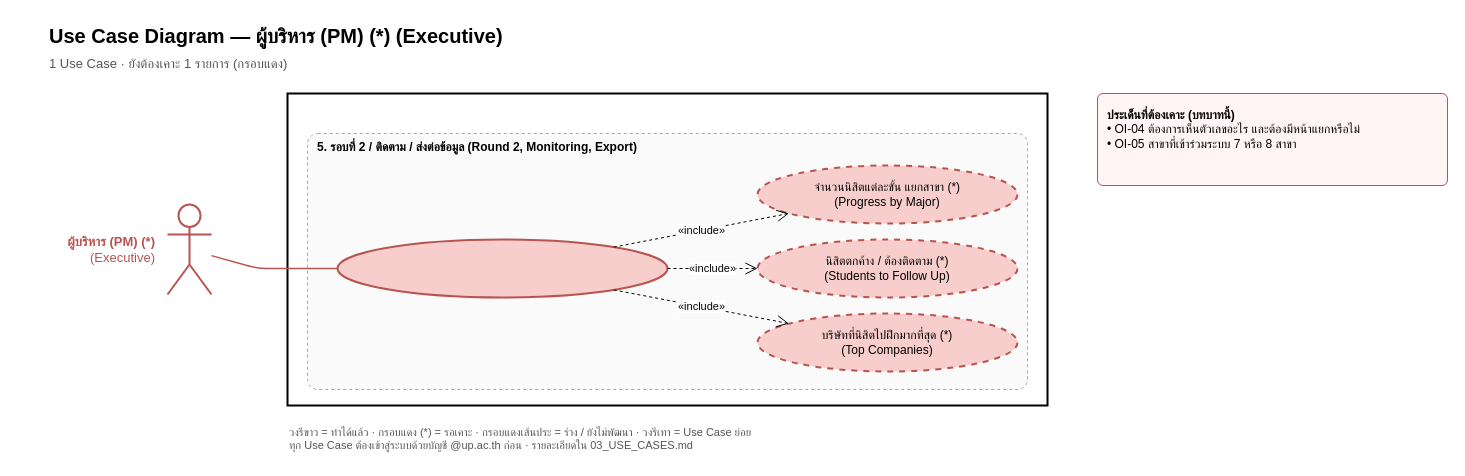
Image size: 1465x476. Some labels were removed from this diagram. The shapes that lost their labels are listed below. From the top down, each one's box as (x1, y1, x2, y2) in pixels, then its label:
(336, 238, 668, 298): UC-13 ติดตามผ่าน Dashboard (*) (Monitor Dashboard)
(286, 92, 1048, 406): ระบบติดตามการฝึกงาน คณะ ICT (ICT Internship Tracking System)
